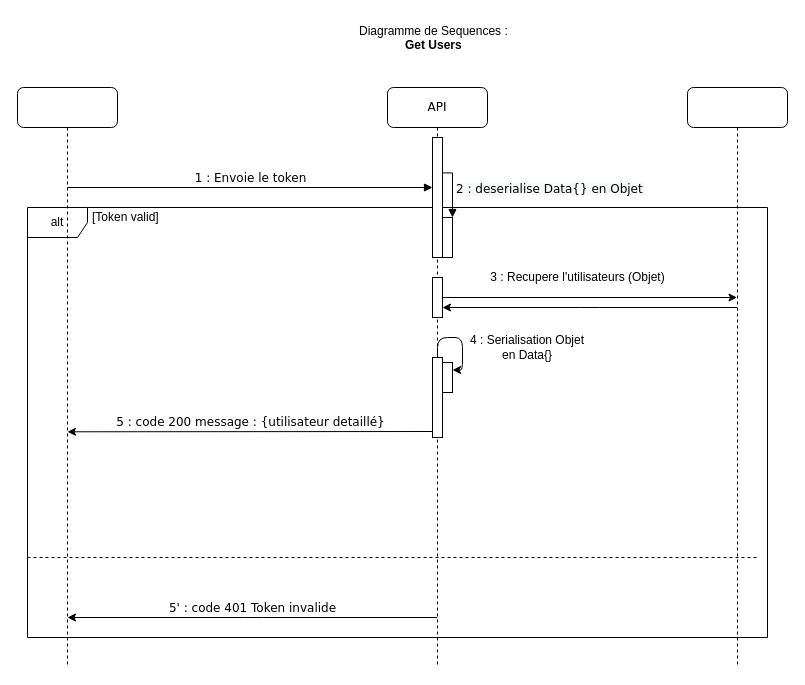
The diagram is 805 pixels wide and 685 high, and some of its shapes have lost their labels. The shapes that lost their labels are listed below. From the top down, each one's box as (x1, y1, x2, y2) in pixels, then its label:
(16, 86, 118, 668): Utilisateur Auth
(686, 86, 788, 668): BDD
